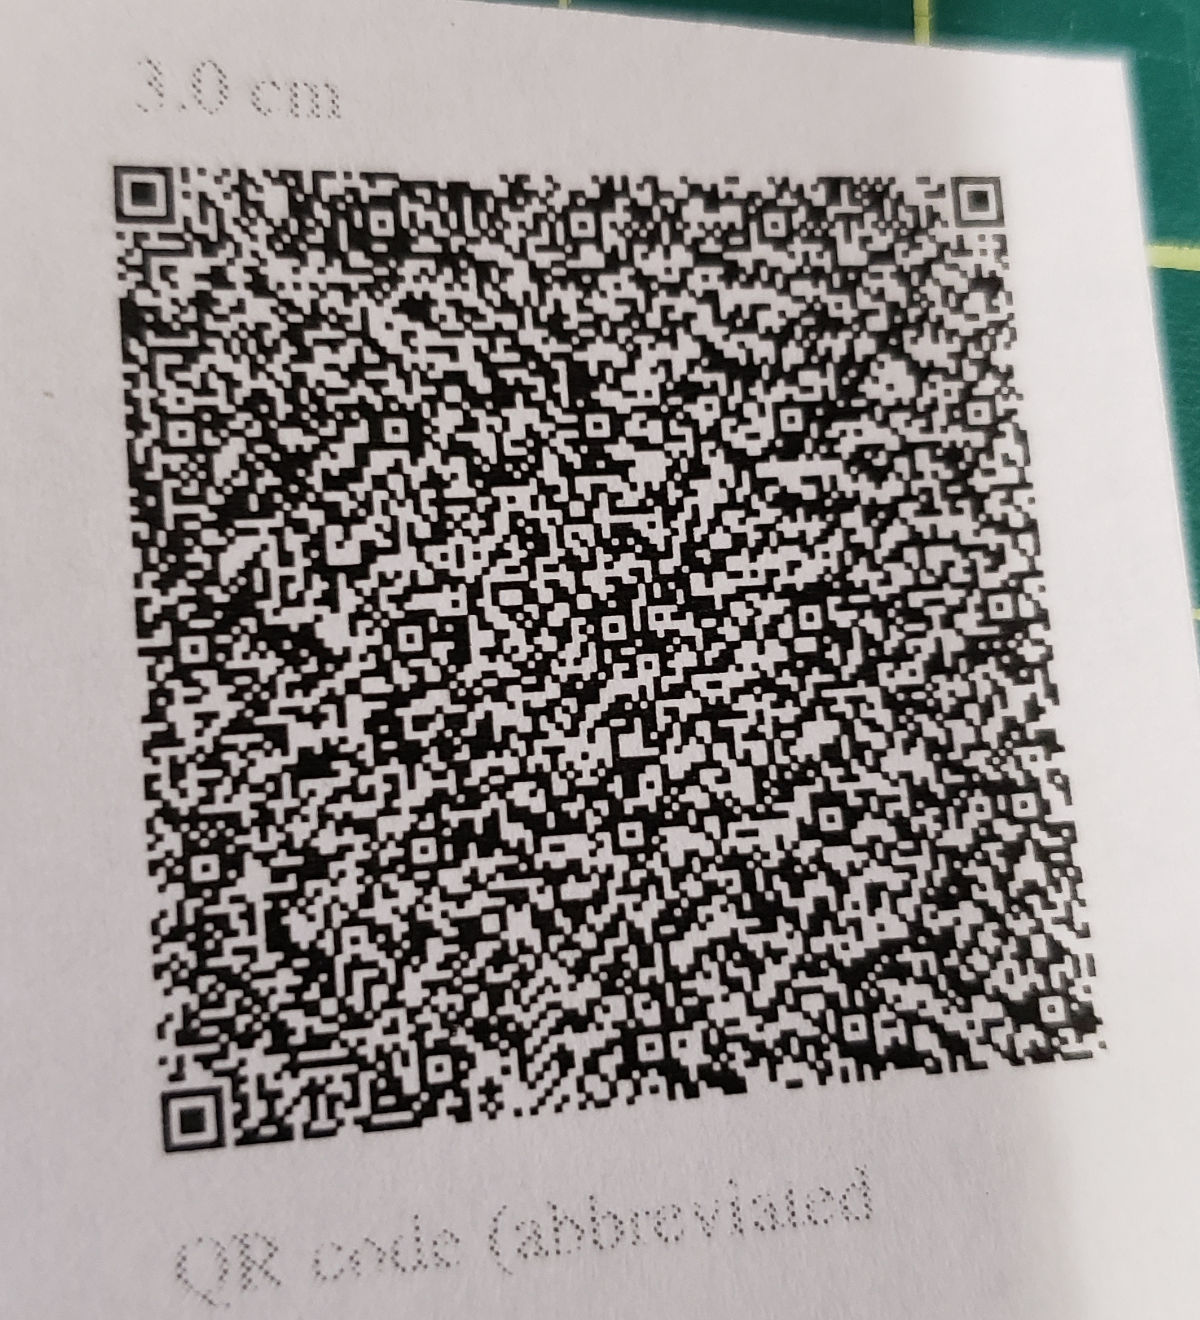QR_CODE: (69, 87, 1145, 1181)
